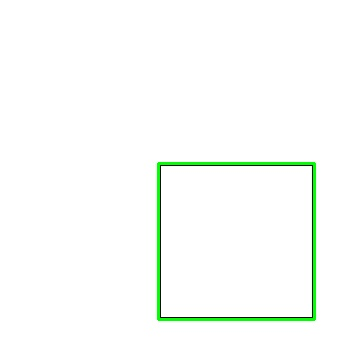line_segment: (157, 162, 316, 321)
